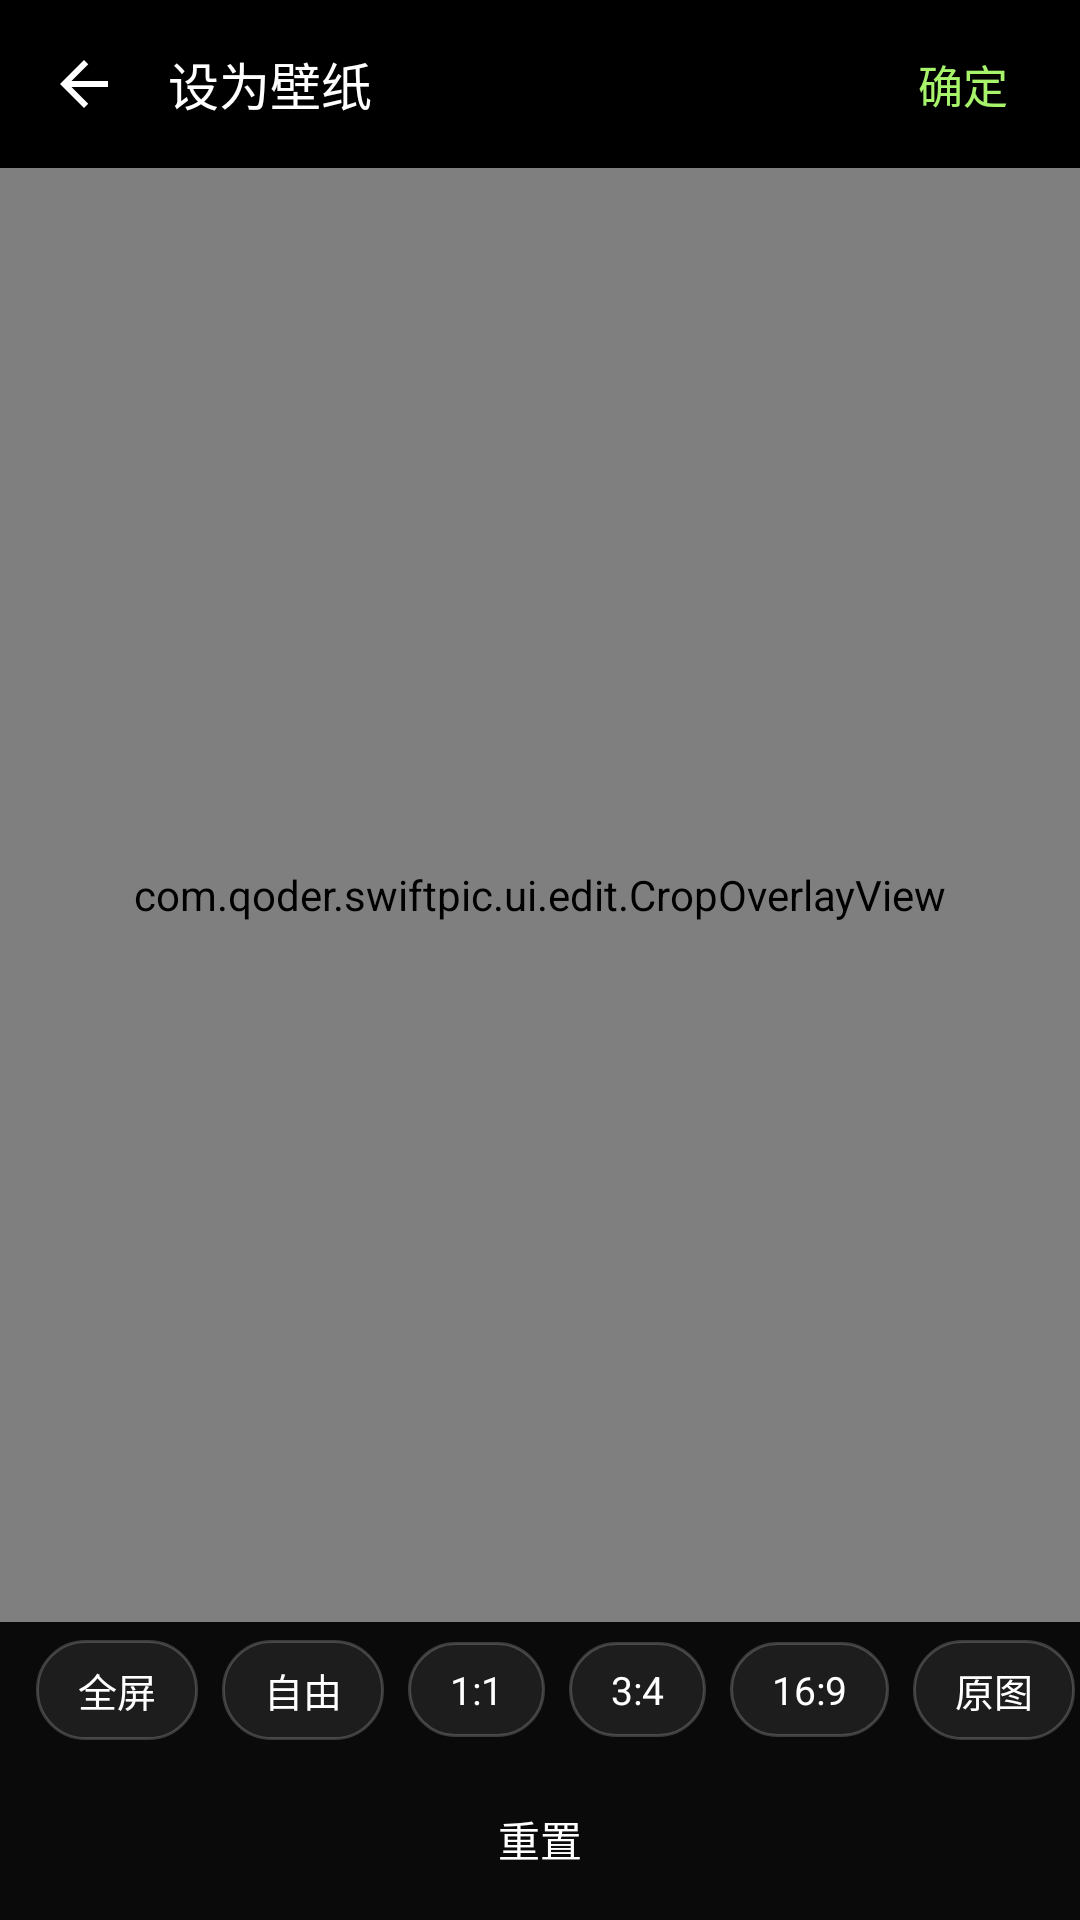

Locate icon controls on the screen. Image size 1080 × 1920, boxes as (x1, y1, x2, y2).
返回: (60, 60, 108, 108)
